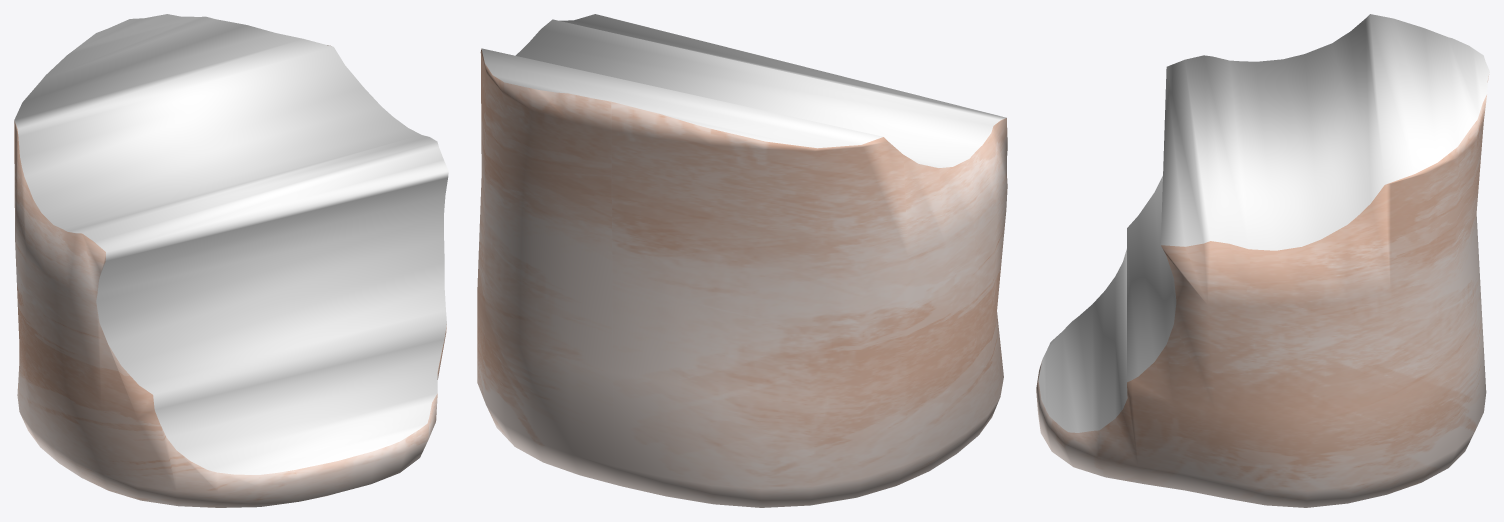
Rendered from Marshmallow 2 Bites.fbx.
3 views of the same model, side by side, from view 1: azimuth 30°, elevation 25°; view 2: azimuth 150°, elevation 25°; view 3: azimuth 270°, elevation 25° (orthographic). The views are drawn at different scales.
Visible parts, largest first — view 1: Marshmallow__1_2-Bite; view 2: Marshmallow__1_2-Bite; view 3: Marshmallow__1_2-Bite.
Boxes of the visible parts, box(x1,y1,x2,y2) form: Marshmallow__1_2-Bite: box(14, 14, 448, 507); Marshmallow__1_2-Bite: box(477, 14, 1007, 507); Marshmallow__1_2-Bite: box(1036, 14, 1489, 507).
Size of the model in its own units: 6.05 by 5.13 by 5.91.
